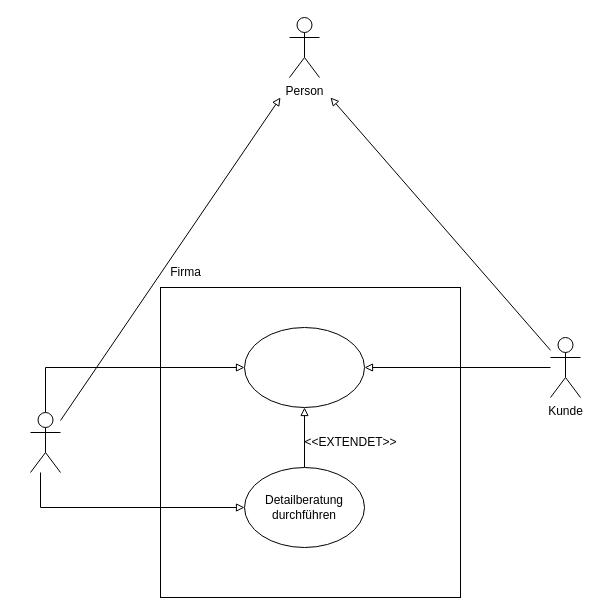
Image size: 600x615. Some labels were removed from this diagram. Here are the shapes that lost their labels. From the top down, the centre of each, then its label:
At [304,367]: "Beratung durchführen".
At [45,442]: "Consultant".
